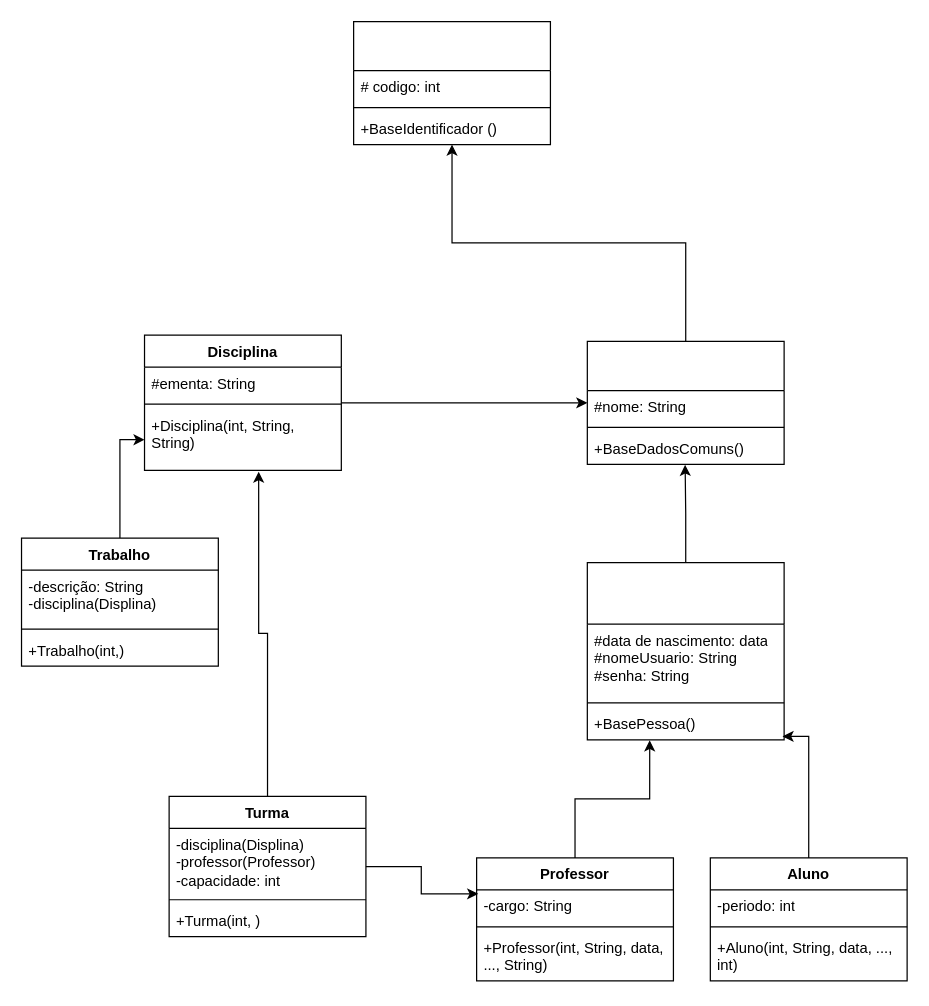
Some shapes in this 929 by 1006 pixel diagram are drawn without their labels. The box of each missing label's shape, as (x1, y1, x2, y2) in pixels:
BaseDadosComuns <<abstract>>: (586, 340, 784, 464)
BaseIdentificador <<abstract>>: (352, 20, 550, 145)
BasePessoa <<abstract>>: (586, 561, 784, 740)
